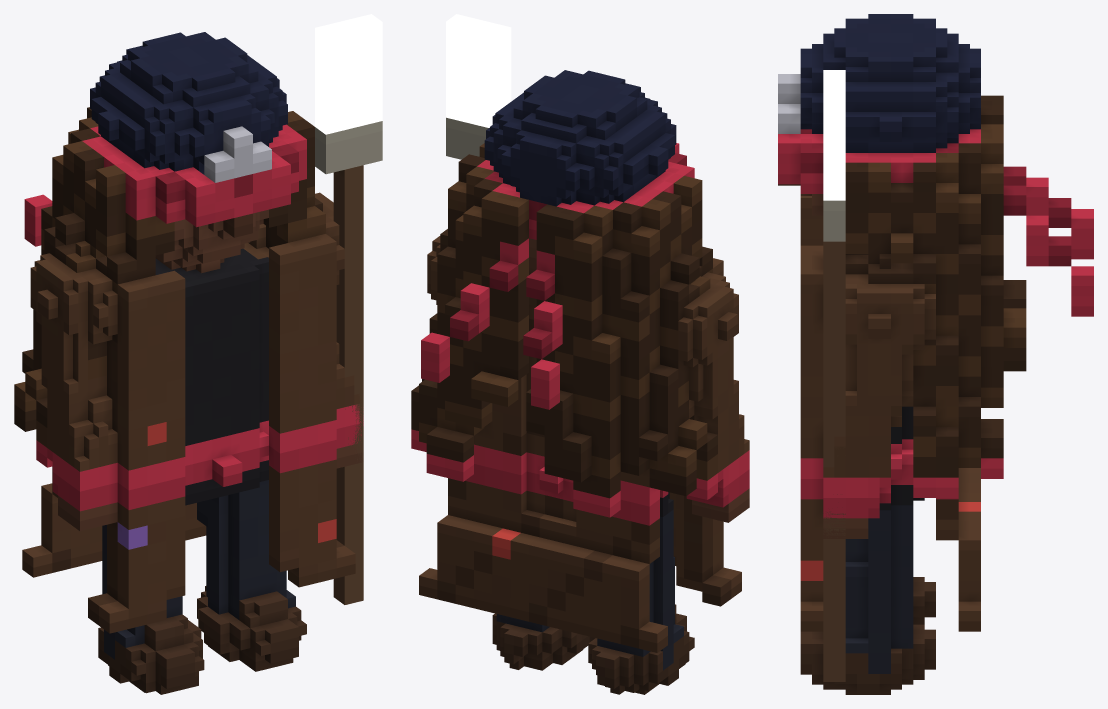
Rendered from u_tidiane__lame.glb.
The picture shows the model from 3 angles, left to right: view 1: azimuth 30°, elevation 25°; view 2: azimuth 150°, elevation 25°; view 3: azimuth 270°, elevation 25°; orthographic projection. The views are drawn at different scales.
Visible parts, largest first — view 1: tidiane_body, tidiane_weapon, tidiane_weaponglow; view 2: tidiane_body, tidiane_weaponglow, tidiane_weapon; view 3: tidiane_body, tidiane_weapon, tidiane_weaponglow.
Part boxes in pixels (box(x1,y1,x2,y2)): tidiane_body: box(14, 32, 363, 694); tidiane_weapon: box(315, 121, 382, 604); tidiane_weaponglow: box(315, 14, 382, 134); tidiane_body: box(411, 70, 749, 694); tidiane_weaponglow: box(446, 14, 511, 127); tidiane_weapon: box(446, 117, 488, 159); tidiane_body: box(778, 14, 1093, 694); tidiane_weapon: box(823, 200, 845, 681); tidiane_weaponglow: box(823, 70, 845, 200).
Size of the model in its own units: 0.825 by 1.57 by 0.7.
